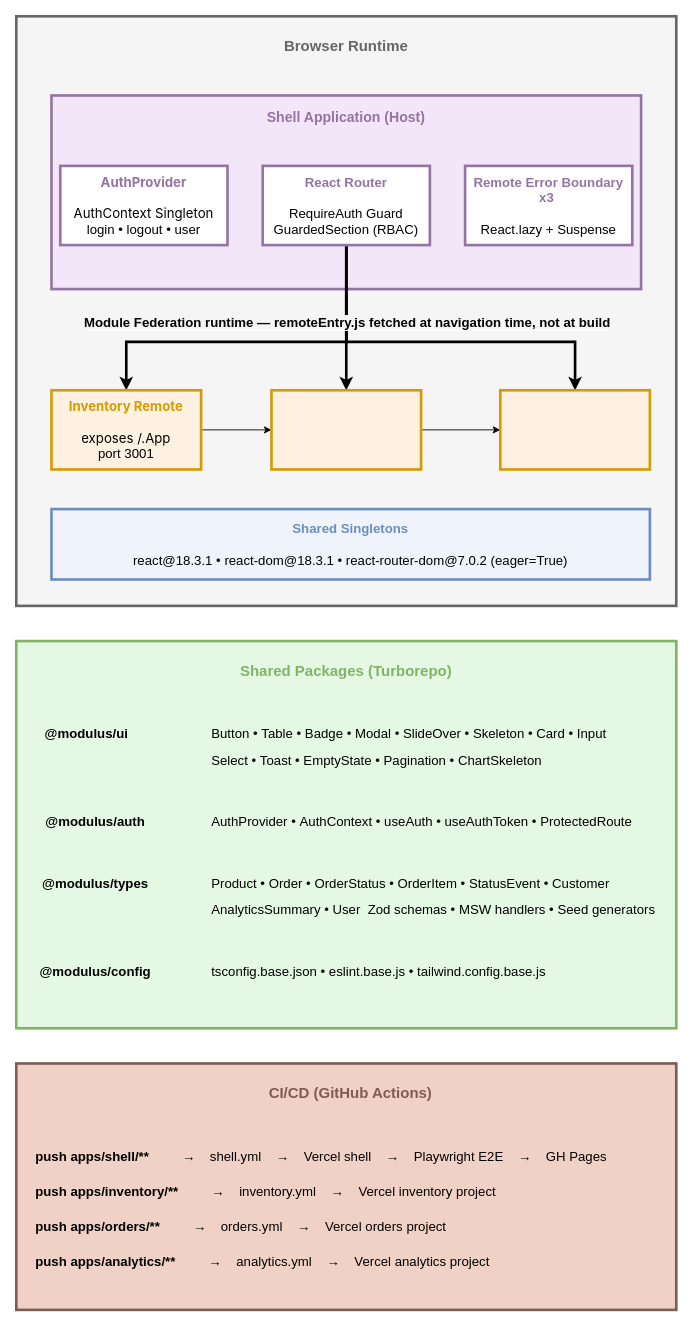
Some shapes in this 700 by 1326 pixel diagram are drawn without their labels. Here are the shapes that lost their labels. From the top down, the centre of each, then its label:
At pixel 346 429: "Orders Remote exposes /.App port 3002".
At pixel 575 429: "Analytics Remote exposes /.App port 3003".
